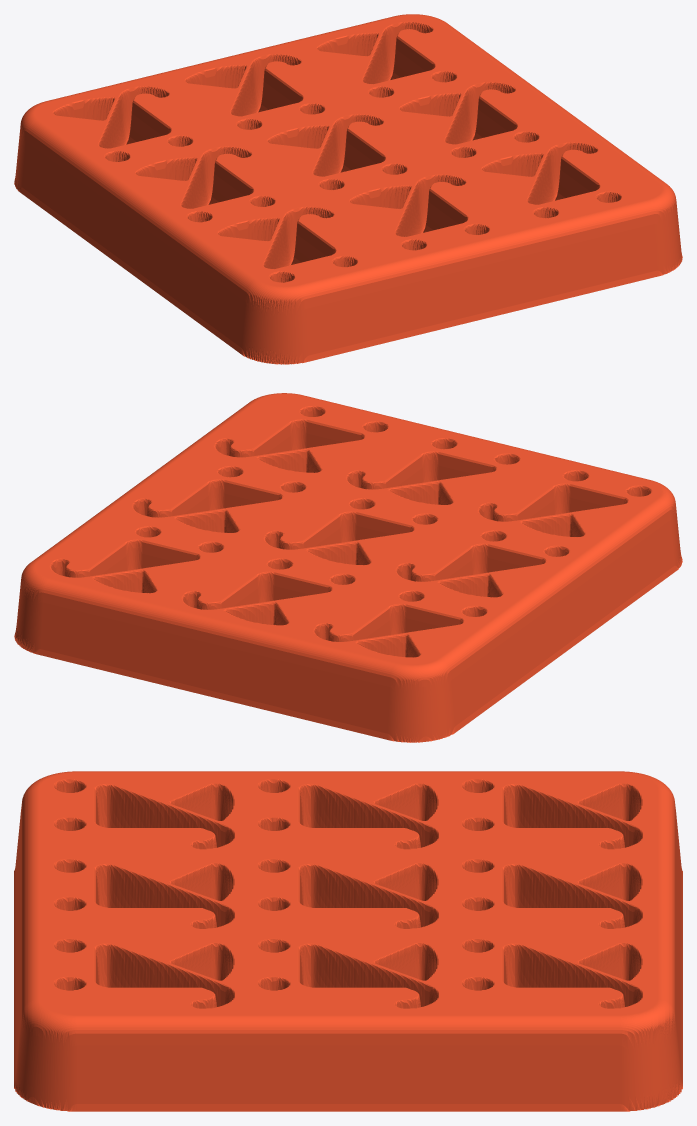
File: mold.glb
3 views of the same model, one above another, from view 1: azimuth 30°, elevation 25°; view 2: azimuth 150°, elevation 25°; view 3: azimuth 270°, elevation 25° (orthographic). The views are drawn at different scales.
Parts seen in each view (by area): view 1: geometry_0; view 2: geometry_0; view 3: geometry_0.
Boxes of the visible parts, <box> form: geometry_0: <box>14,14,682,364</box>; geometry_0: <box>14,393,682,742</box>; geometry_0: <box>14,771,682,1111</box>.
Bounding box in the file's own units: 0.0898 × 0.0136 × 0.0964.
